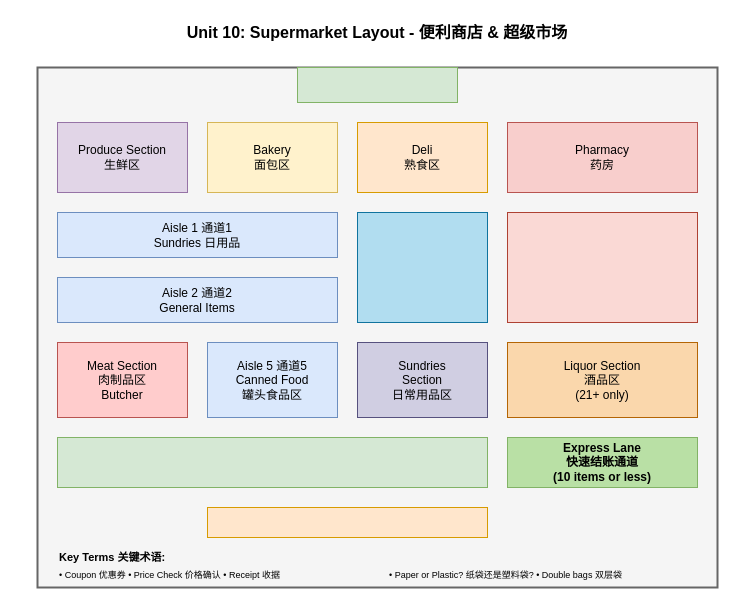
This 754x605 diagram has some shape labels left out. Here are the shapes that lost their labels. From the top down, the centre of each, then its label:
(377,84): ENTRANCE 入口
(422,267): Frozen Food Section 冷冻食品区
(602,267): Dairy Section 奶制品区
(272,462): Checkout Lines 交款处 Cash | Credit | Check | ATM
(347,522): EXIT 出口
